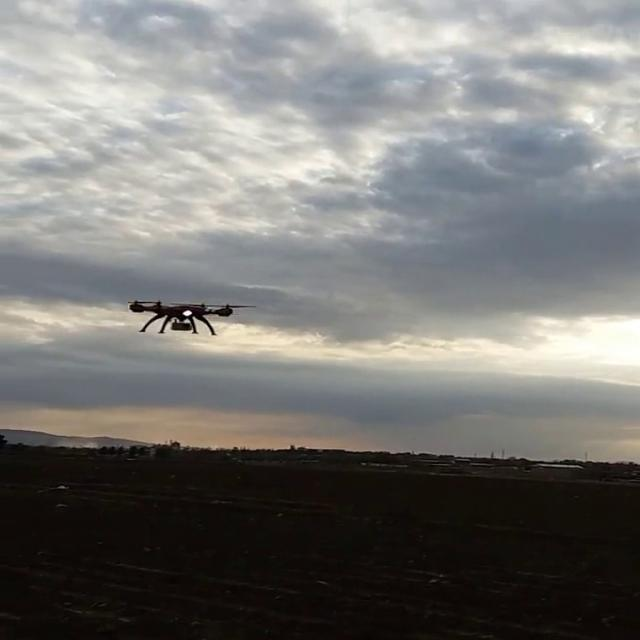drone: (117, 295, 258, 337)
